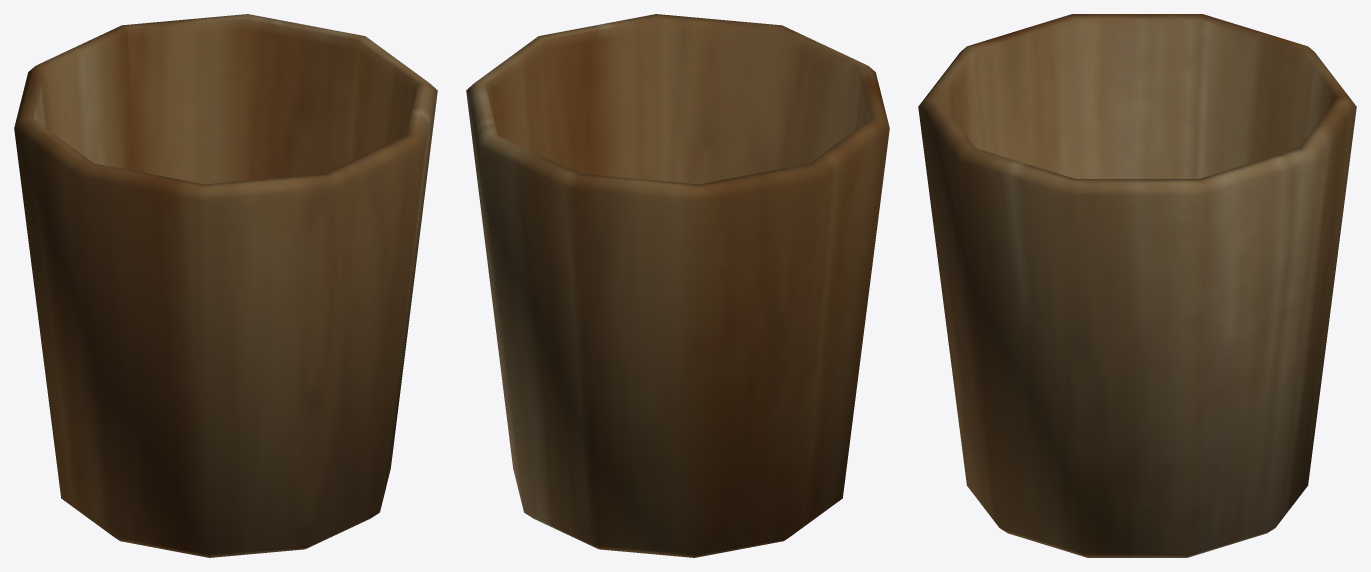
File: sb_obj_indoor020_Cup01.fbx
3 views of the same model, side by side, from view 1: azimuth 30°, elevation 25°; view 2: azimuth 150°, elevation 25°; view 3: azimuth 270°, elevation 25° (orthographic).
Parts seen in each view (by area): view 1: sb_obj_indoor020_Cup01; view 2: sb_obj_indoor020_Cup01; view 3: sb_obj_indoor020_Cup01.
Boxes of the visible parts, x1=… form: sb_obj_indoor020_Cup01: x1=14, y1=14, x2=437, y2=557; sb_obj_indoor020_Cup01: x1=466, y1=14, x2=889, y2=557; sb_obj_indoor020_Cup01: x1=918, y1=14, x2=1356, y2=557.
Bounding box in the file's own units: 0.0947 × 0.0988 × 0.0995.
